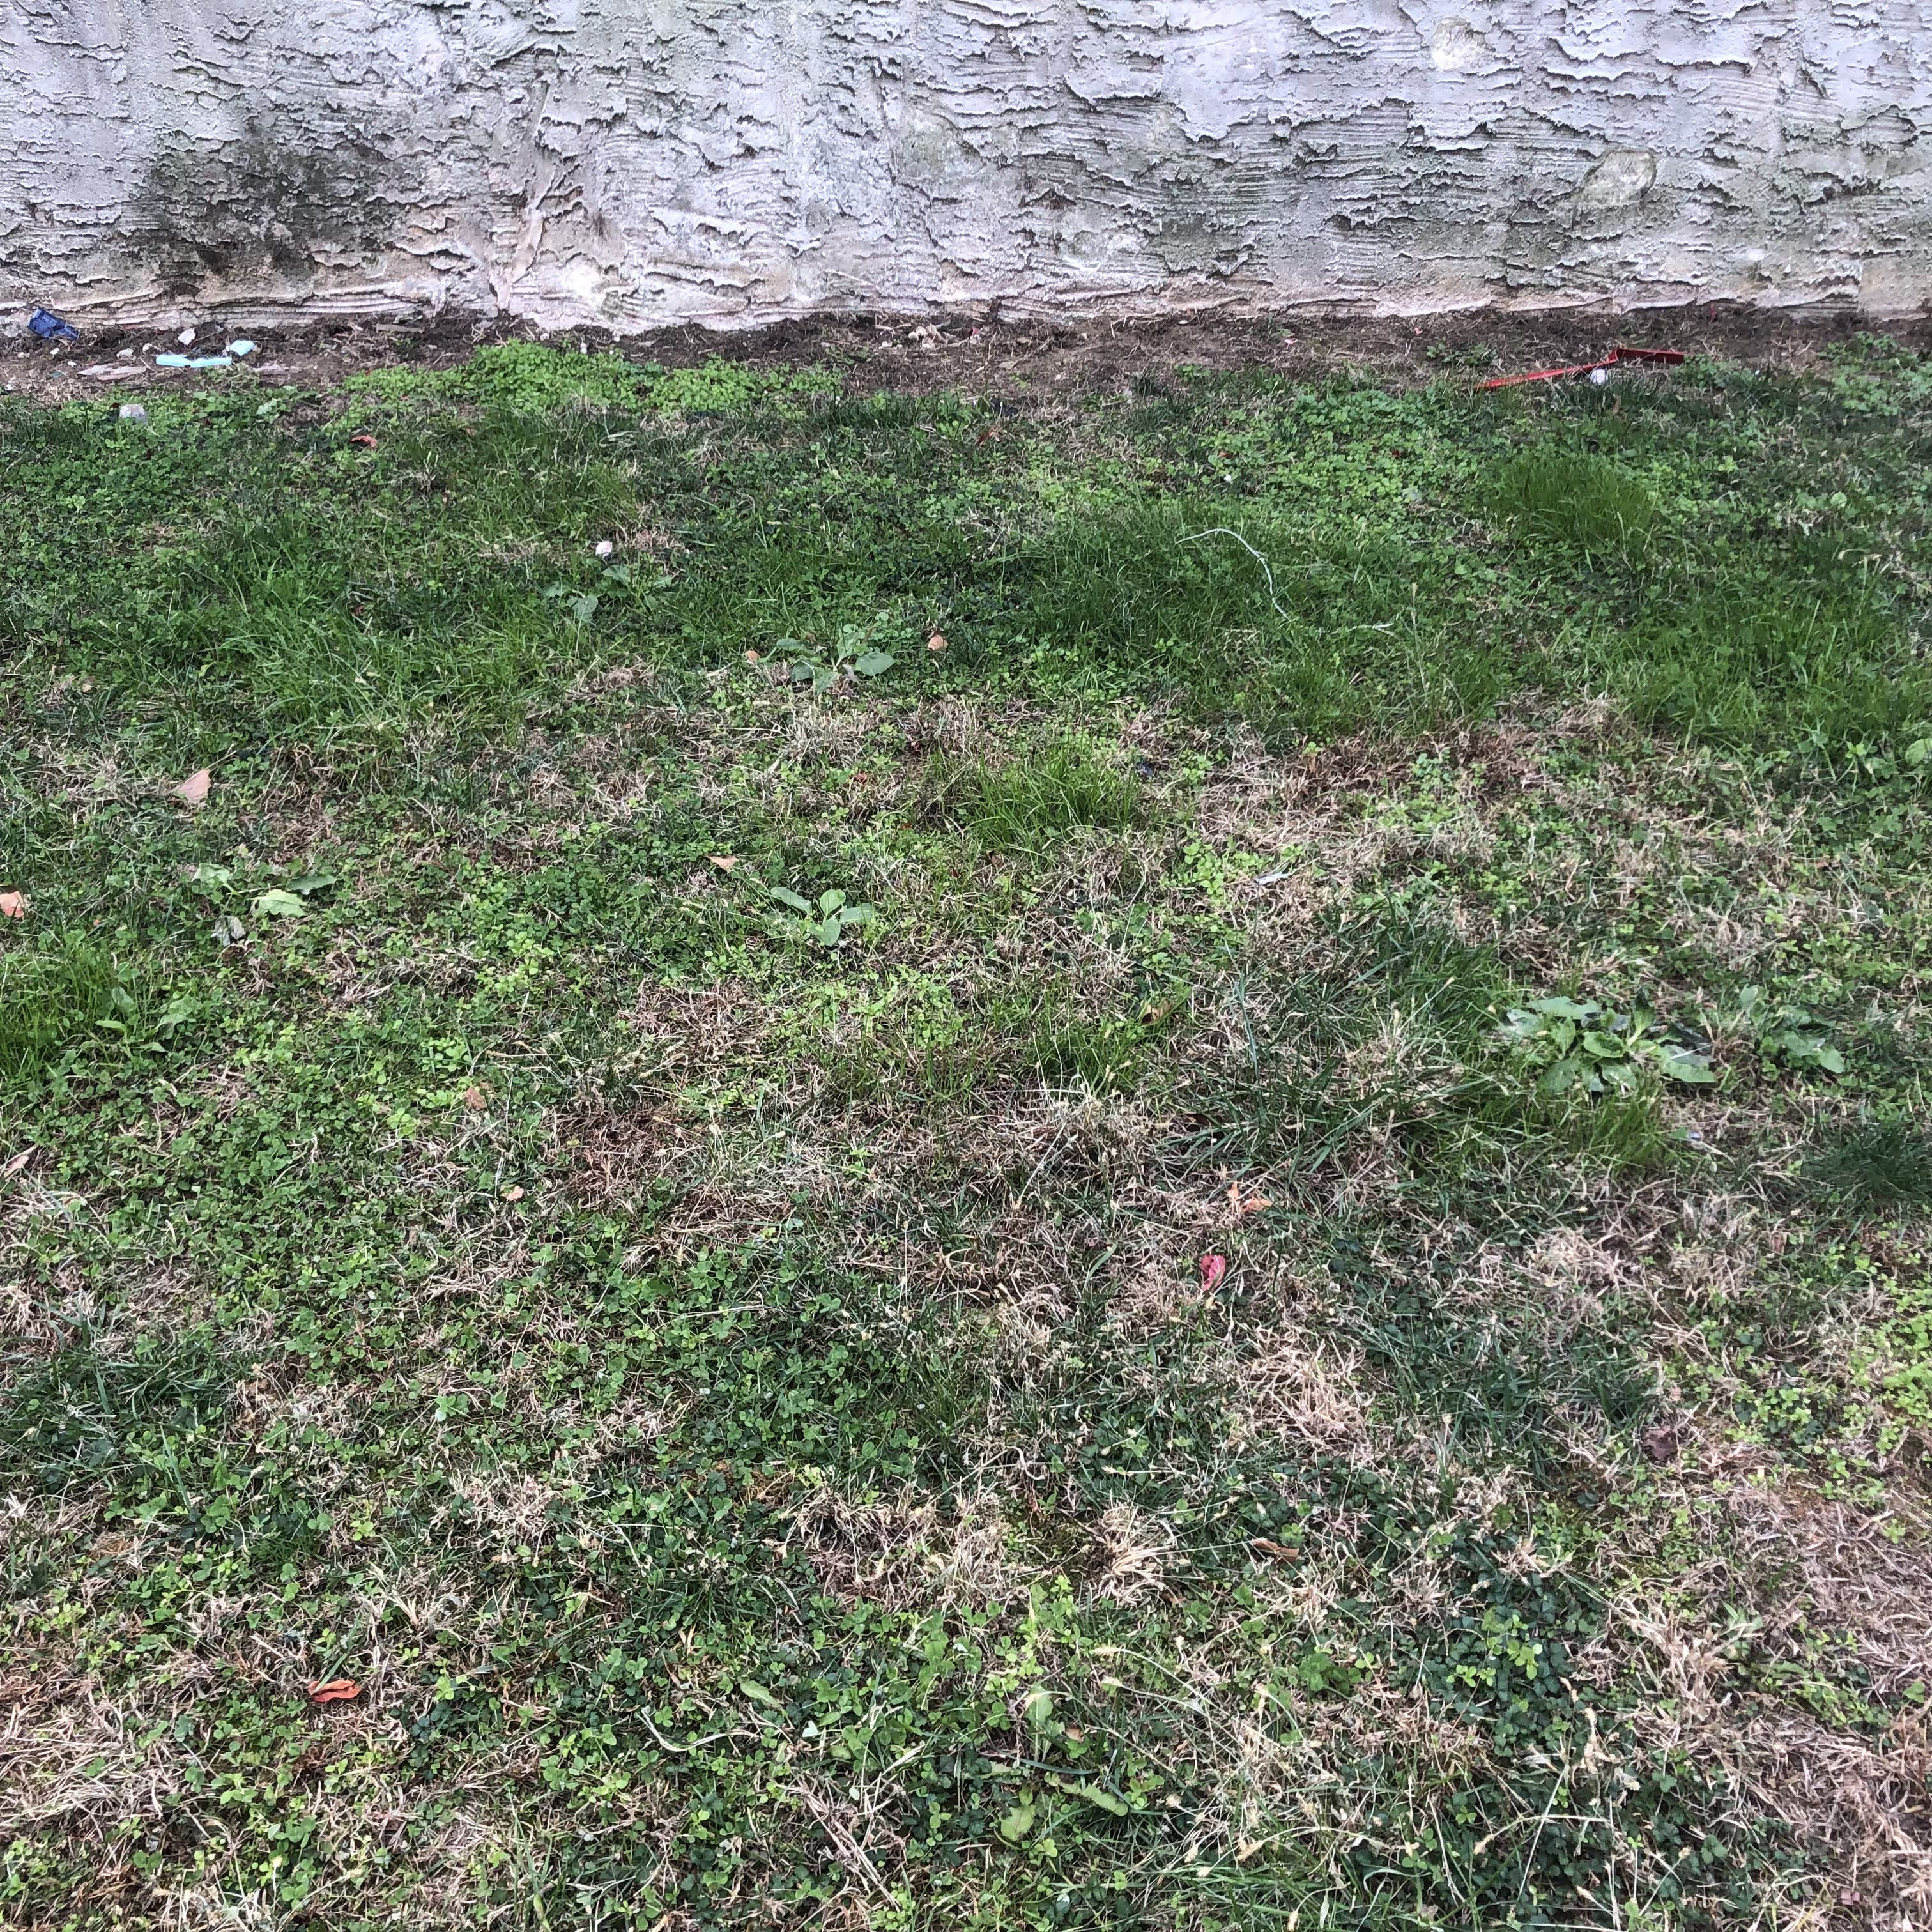good_lawn: (50, 439, 1817, 1884)
